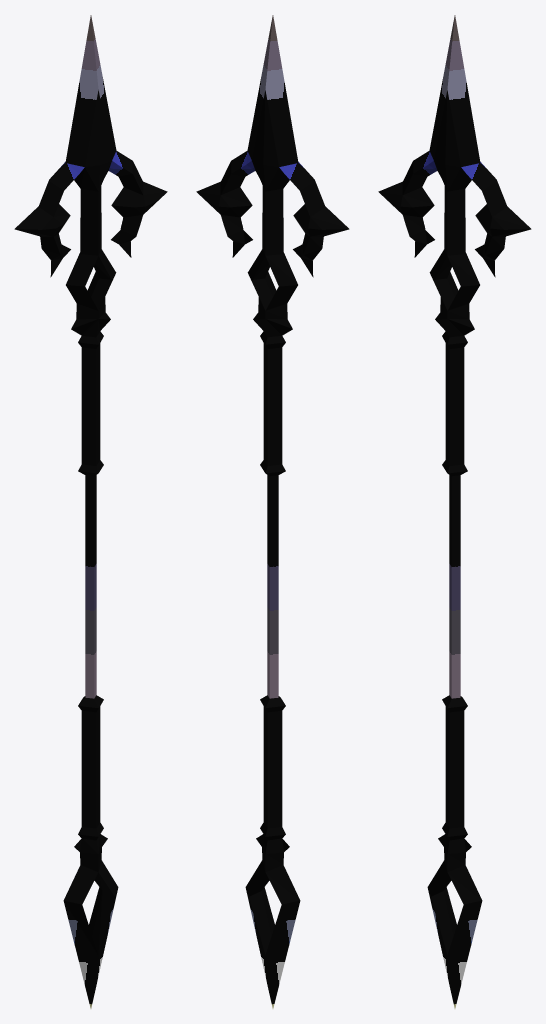
File: scission.obj
3 views of the same model, side by side, from view 1: azimuth 30°, elevation 25°; view 2: azimuth 150°, elevation 25°; view 3: azimuth 330°, elevation 25° (orthographic).
Bounding box in the file's own units: 43.53 × 270 × 9.51.
